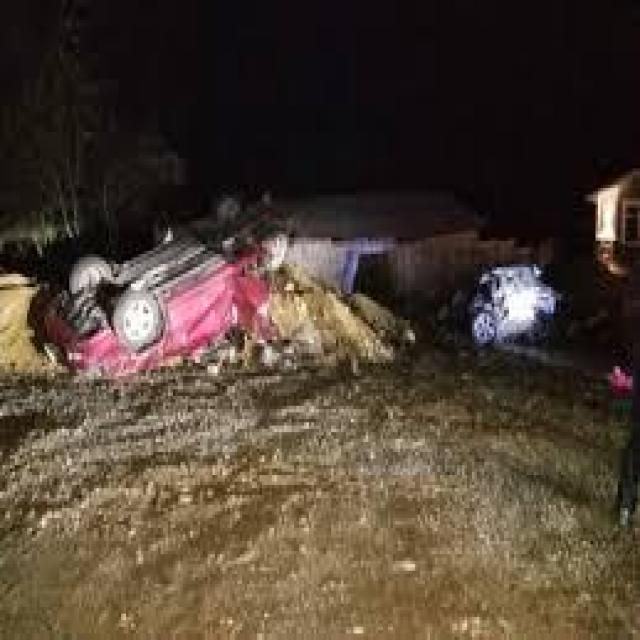accident: (25, 198, 286, 379)
